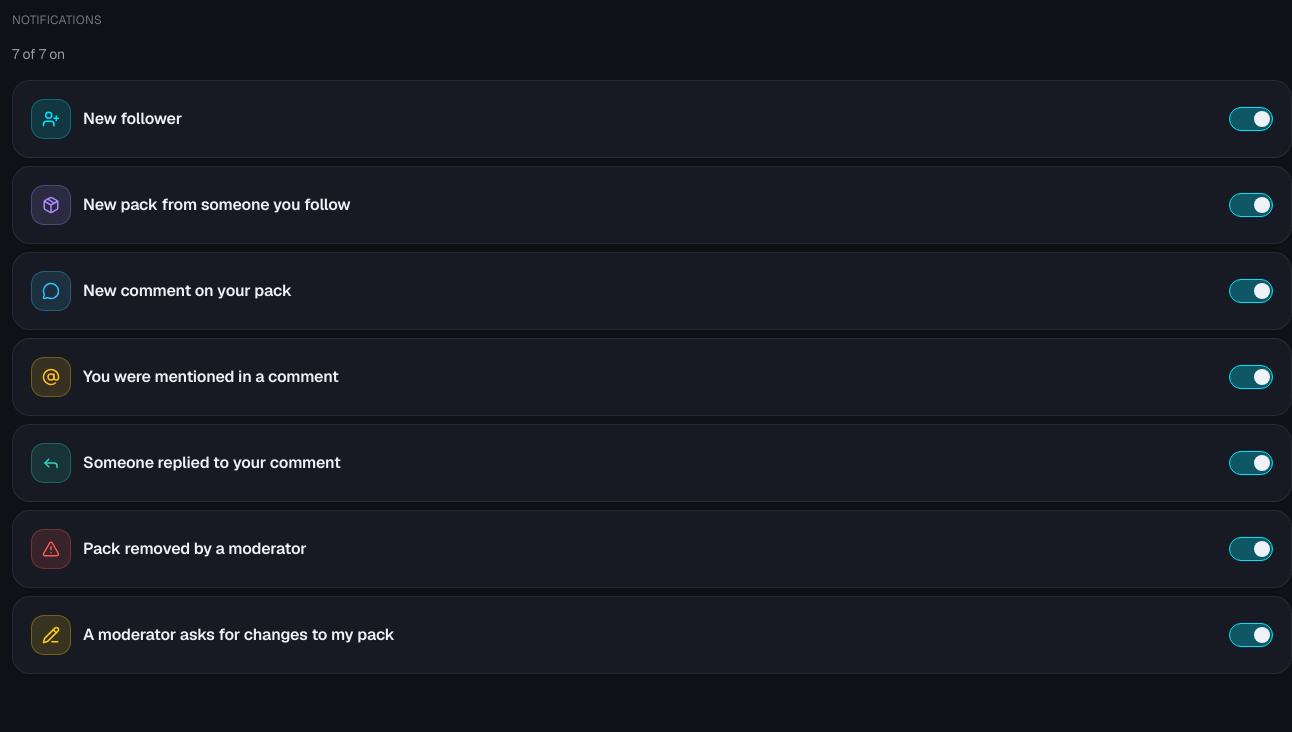
Test: NotificationsSection › updates the enabled-count header after a successful toggle
The image size is (1292, 732).
expect the text "7 of 7 on" is shown: met, box 12,45 -> 65,63
What coordinates should you click on to do the following:
click the switch named "New comment on your pack"
I would click on:
 (1251, 291)
Its box is 1229,279 -> 1273,303.
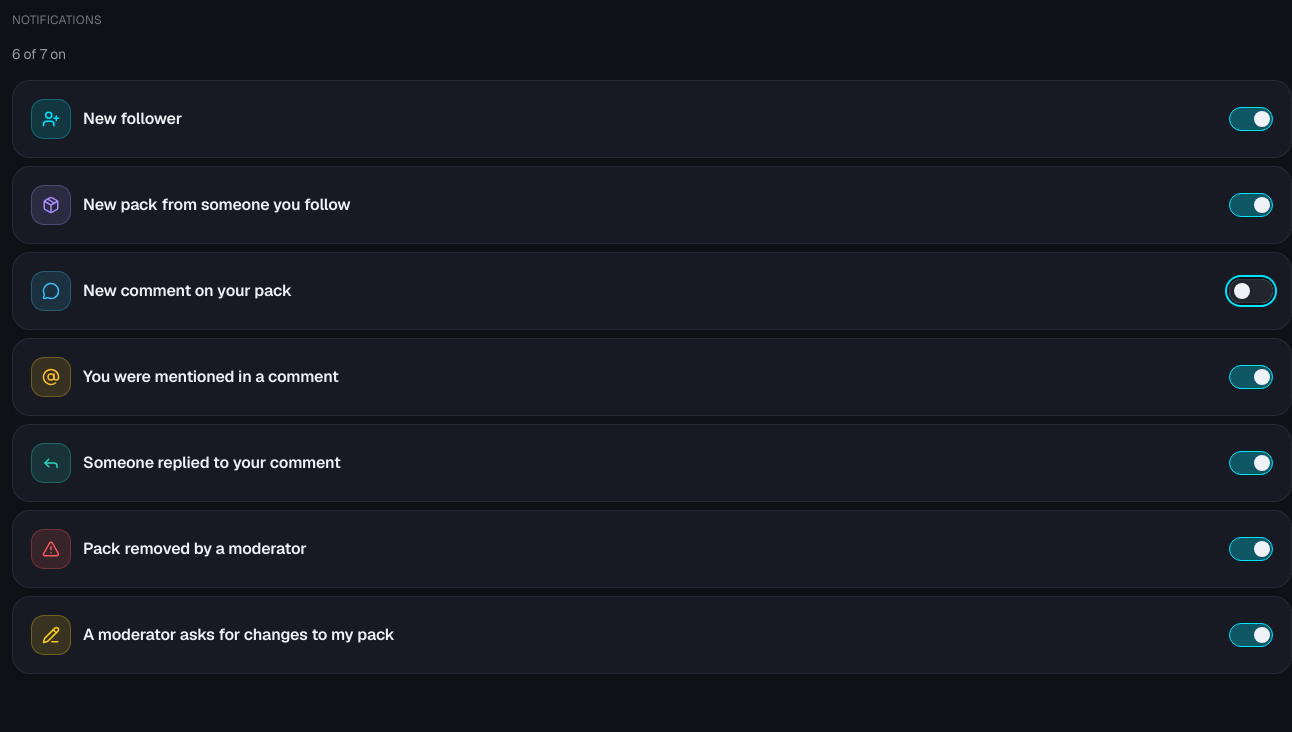
expect the text "6 of 7 on" is shown: met, box 12,45 -> 66,63
